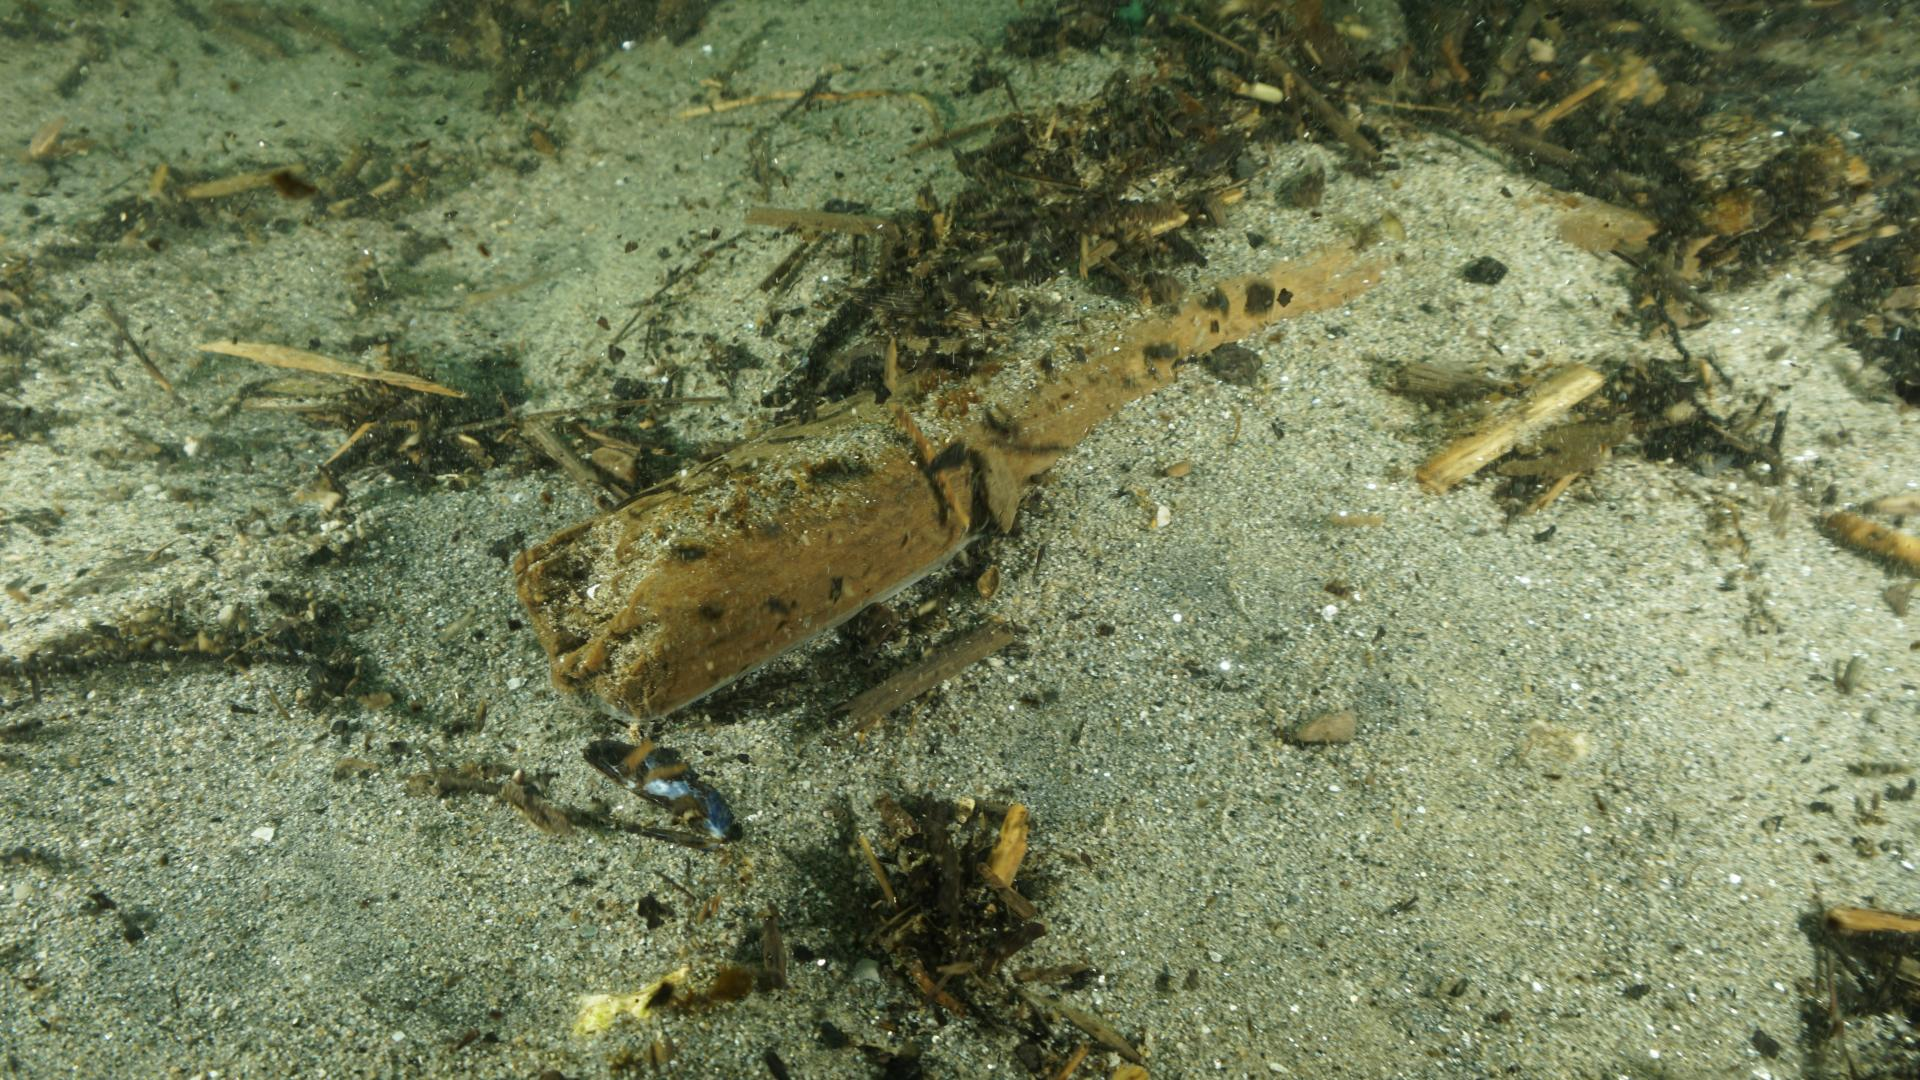wood: (502, 247, 1383, 728)
